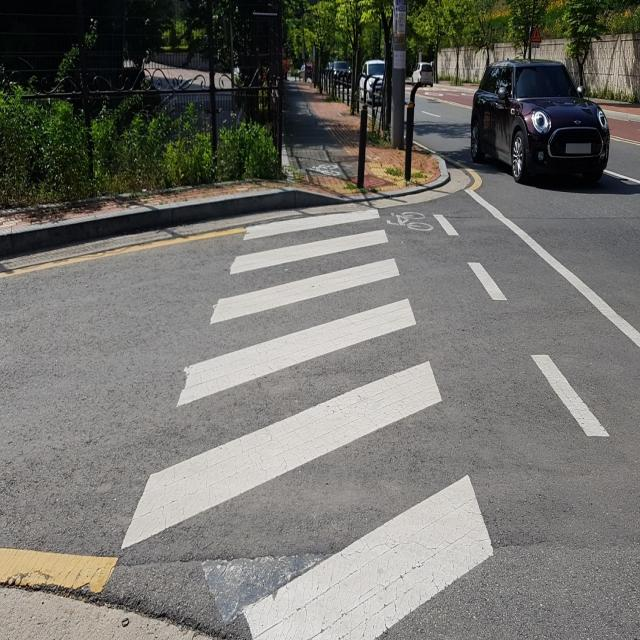횡단보도: (120, 203, 498, 640)
